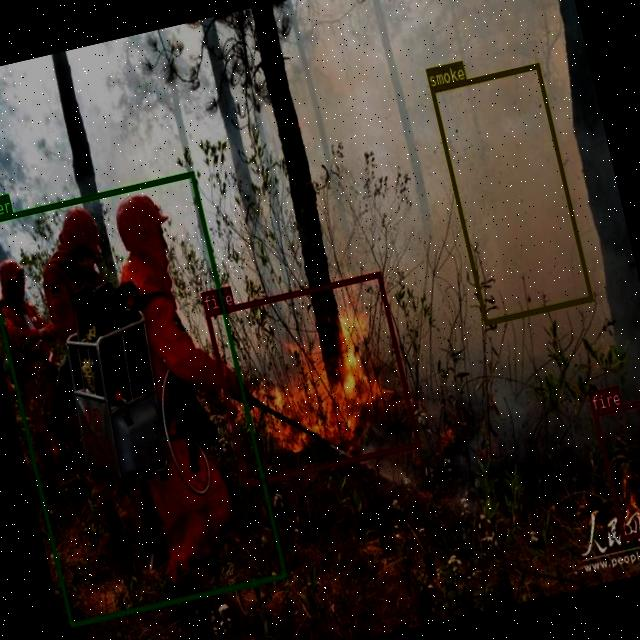fire: (203, 270, 420, 486), (592, 393, 640, 539)
smoke: (429, 62, 593, 324)
